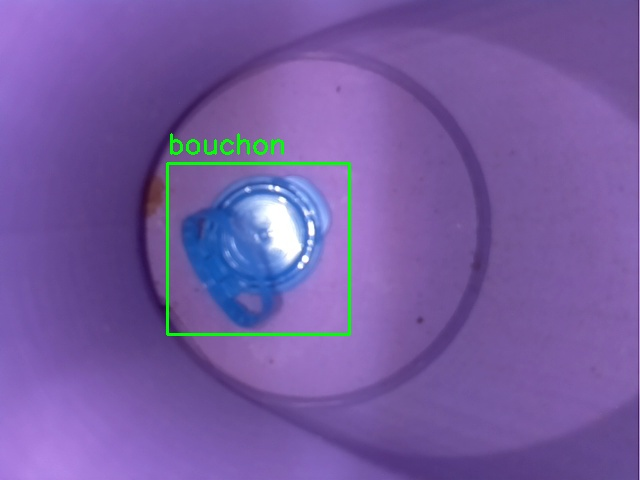bouchon: (167, 163, 349, 334)
